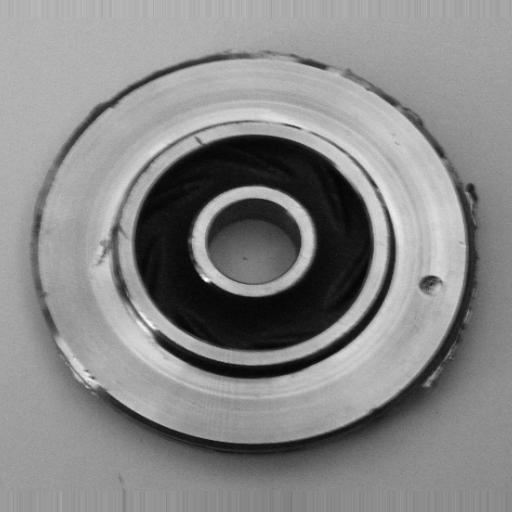casting_with_burr: (33, 46, 484, 454)
crack: (89, 214, 138, 277)
pit: (415, 264, 449, 305)
scratch: (123, 286, 172, 342)
